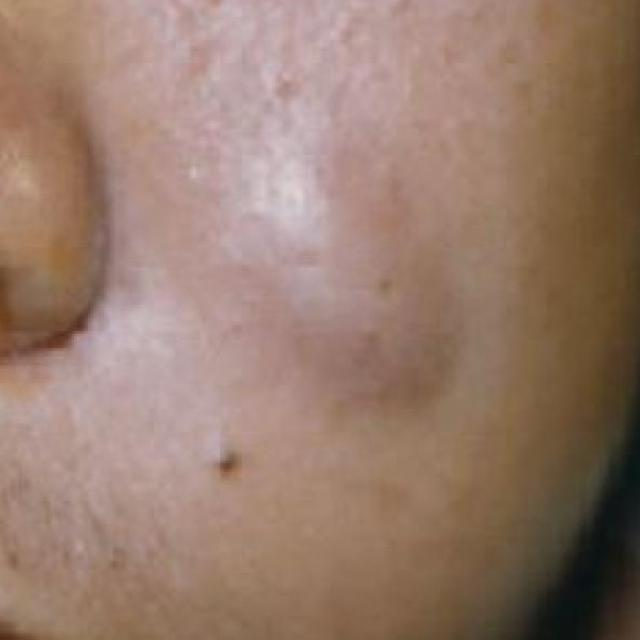nodule: (198, 79, 471, 411)
